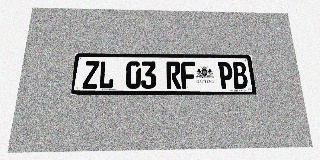0: (125, 61, 141, 89)
3: (141, 61, 156, 89)
B: (232, 62, 248, 89)
F: (181, 62, 196, 89)
L: (98, 61, 115, 89)
P: (218, 62, 234, 89)
R: (166, 61, 181, 89)
Z: (82, 61, 100, 89)
